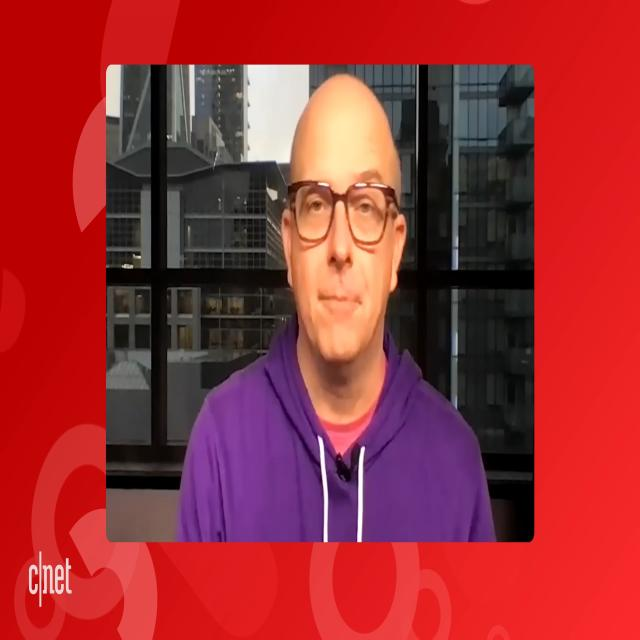dress: (174, 314, 500, 543)
glasses: (287, 176, 394, 249)
